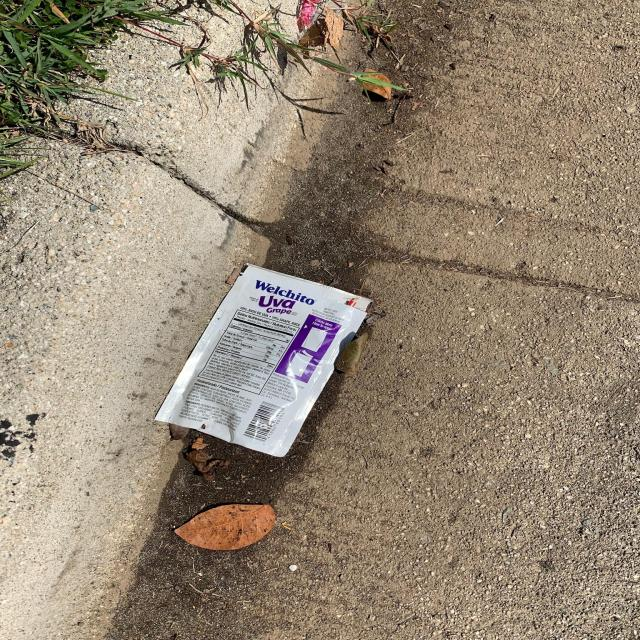litter: (154, 263, 375, 458)
